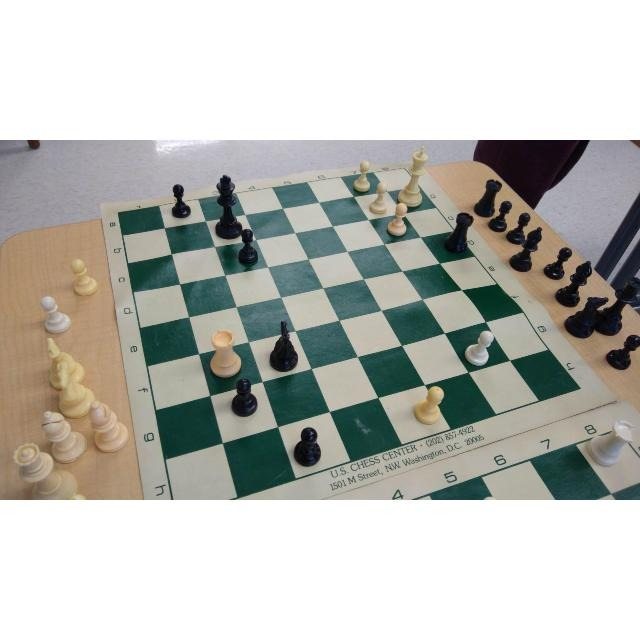black-king: (212, 173, 245, 240)
black-knight: (266, 319, 302, 375)
black-pawn: (290, 425, 323, 469), (230, 377, 258, 418), (236, 227, 260, 268), (170, 182, 192, 220)
black-rook: (440, 210, 475, 254)
white-king: (394, 143, 429, 210)
white-pawn: (410, 385, 447, 427), (464, 329, 496, 368), (385, 201, 410, 239), (367, 179, 390, 217), (352, 158, 372, 194)
white-rook: (582, 415, 635, 472), (205, 327, 245, 380)
